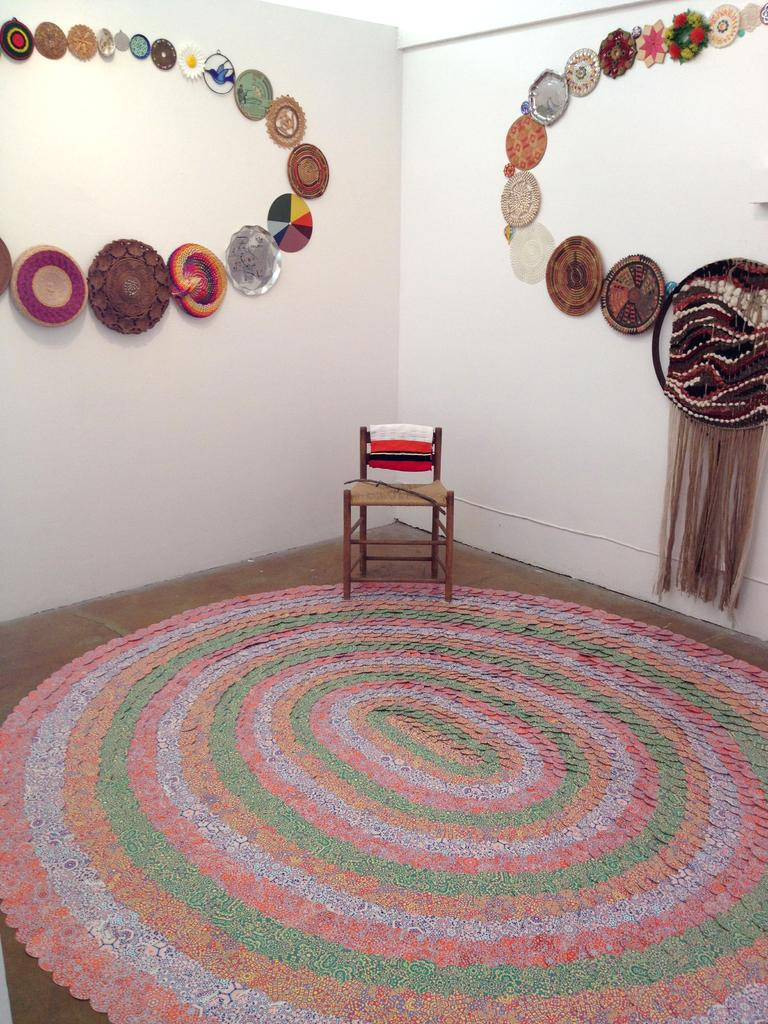Chair: (343, 401, 467, 582)
